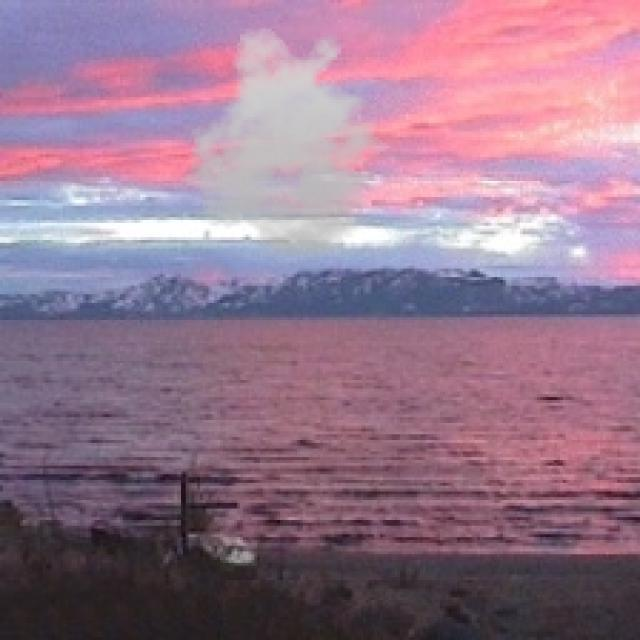Smoke: (177, 26, 400, 260)
